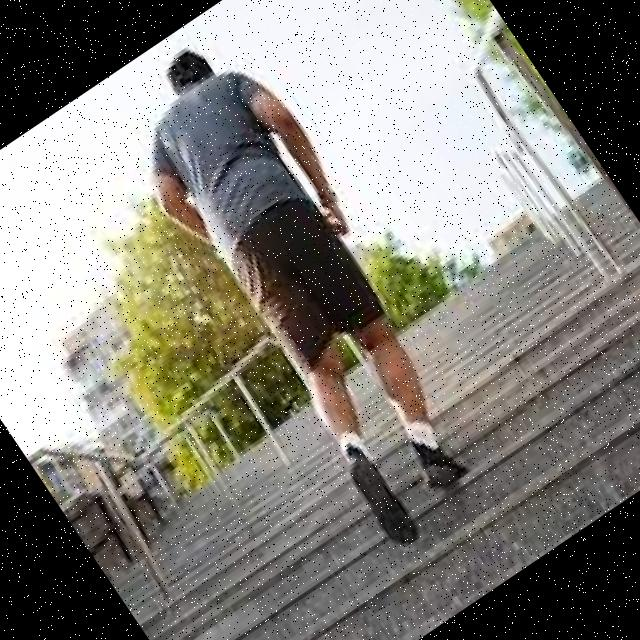Person: (94, 19, 530, 555)
